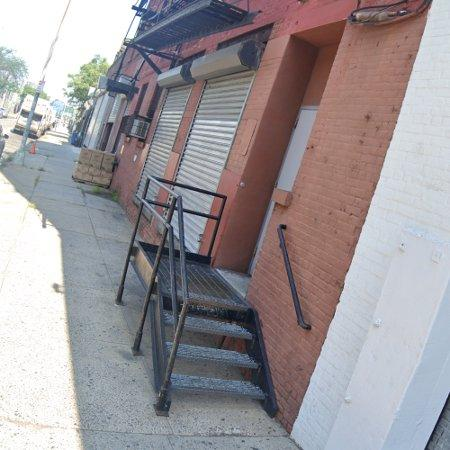stairs: (170, 254, 272, 401), (150, 251, 183, 387), (133, 243, 158, 285)
